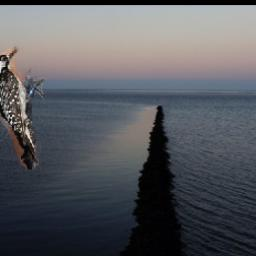Woodpecker: (0, 44, 51, 170)
